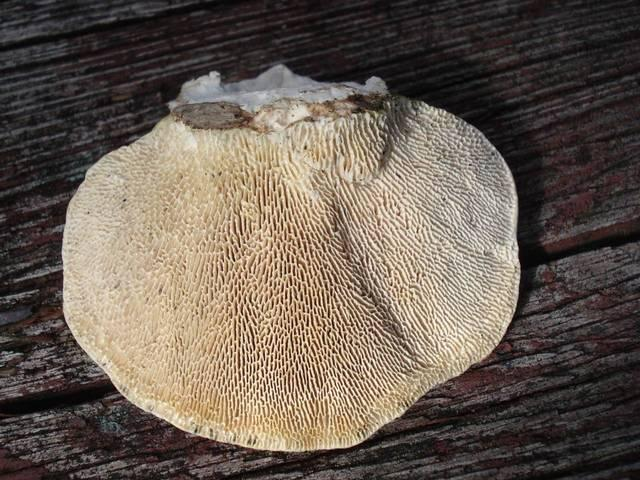Non-edible Mushroom: (59, 67, 523, 453)
